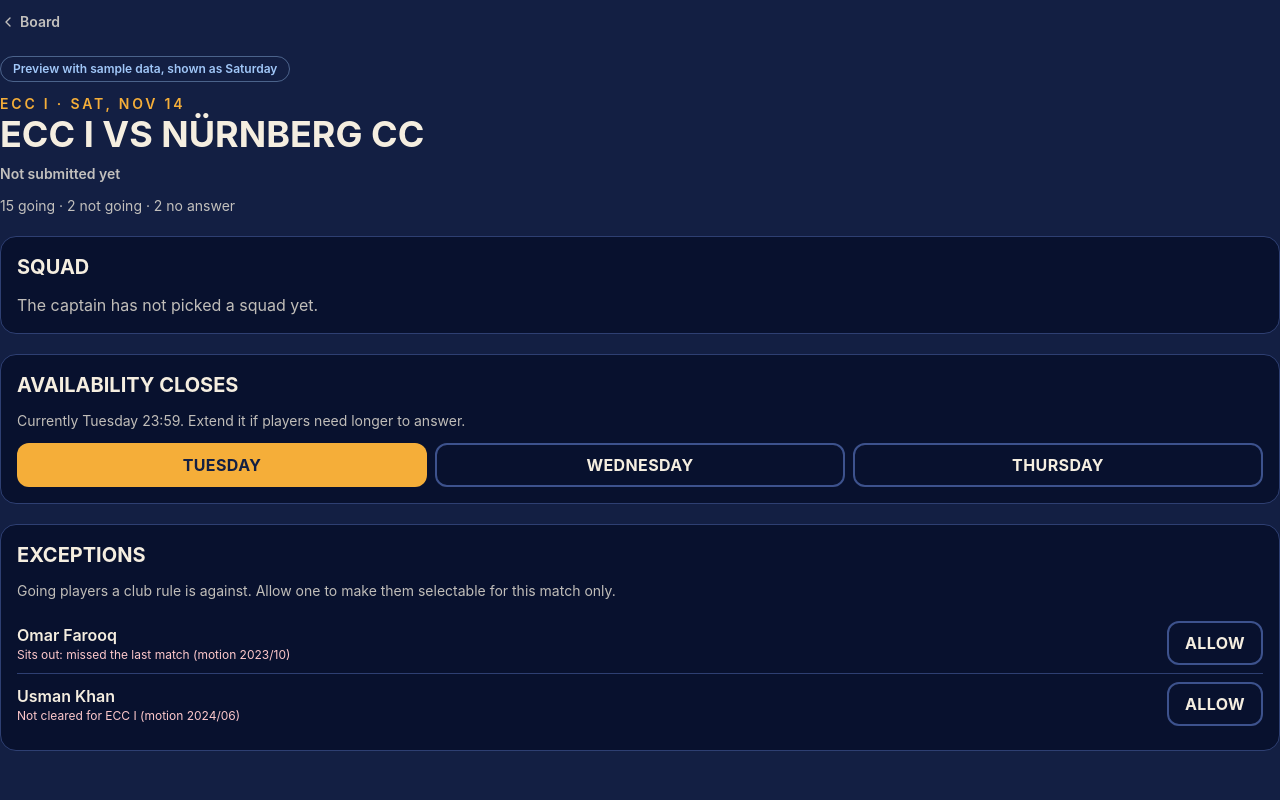
Test case: BoardSquadView › decides in the page in the preview, and says when nothing is picked yet
The image size is (1280, 800).
Expected: the text "The captain has not picked a squad yet." is shown, [17,295,318,315]
Click the button "Wednesday".
click(640, 465)  # box [435,443,845,487]
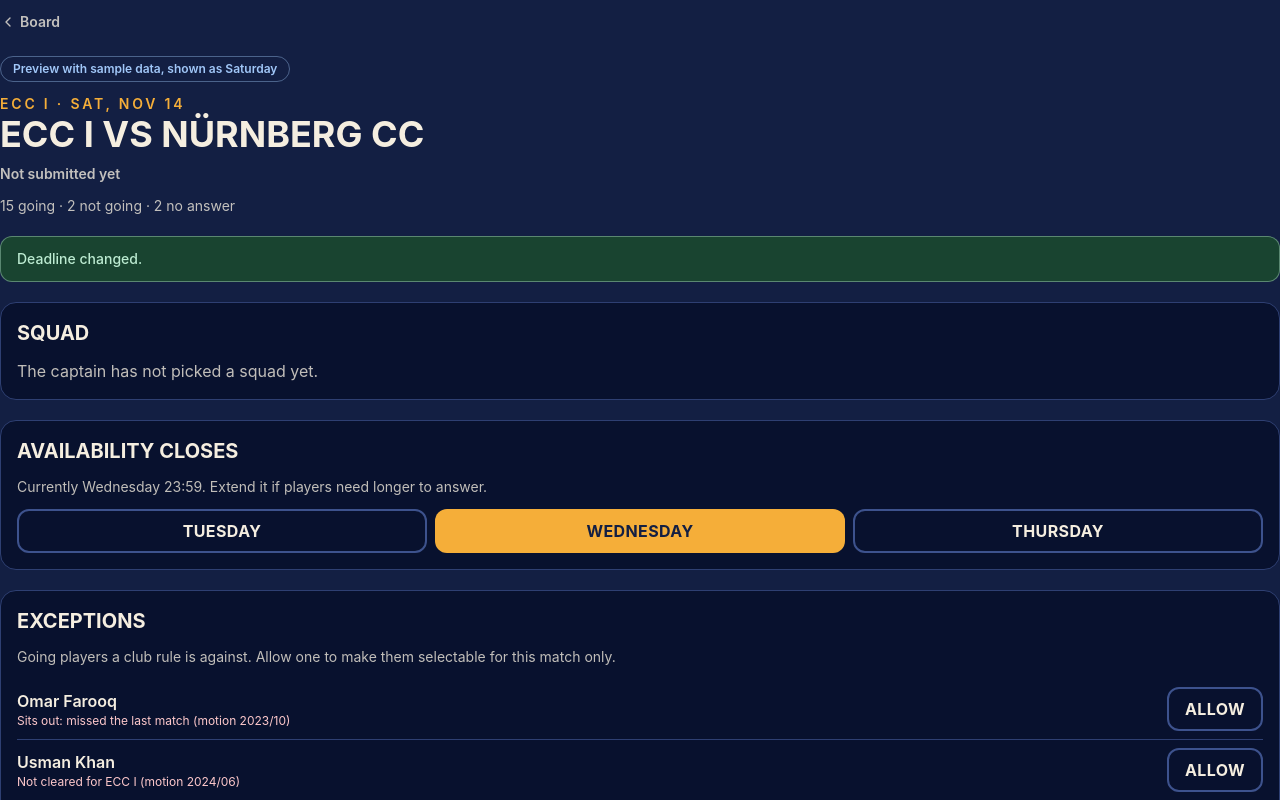
Expected: the message reads "Deadline changed.", [17,250,142,267]
